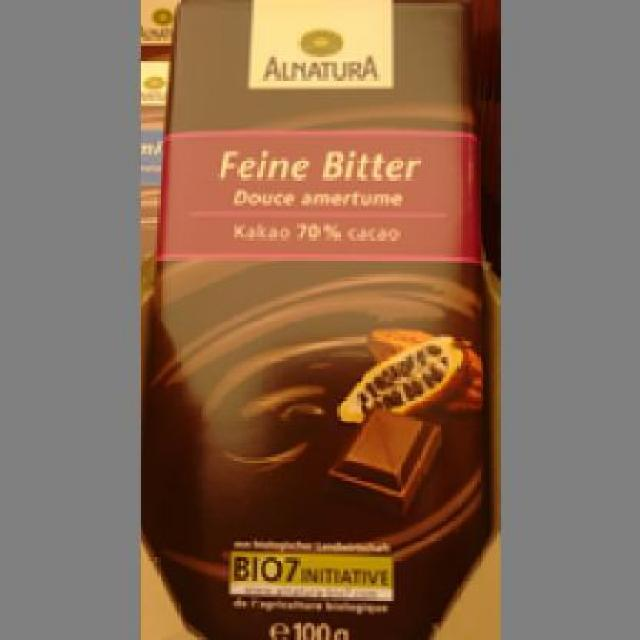Chocolate bar: (151, 1, 480, 637)
